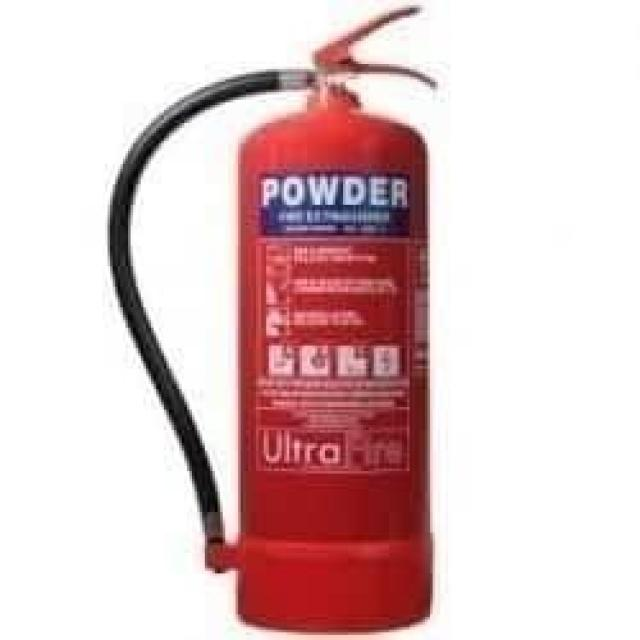fire_extinguisher: (98, 0, 441, 637)
